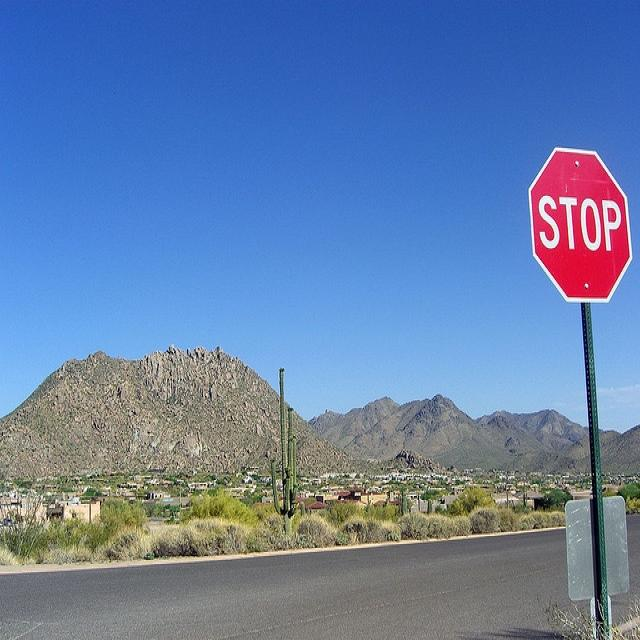pole: (575, 300, 612, 639)
